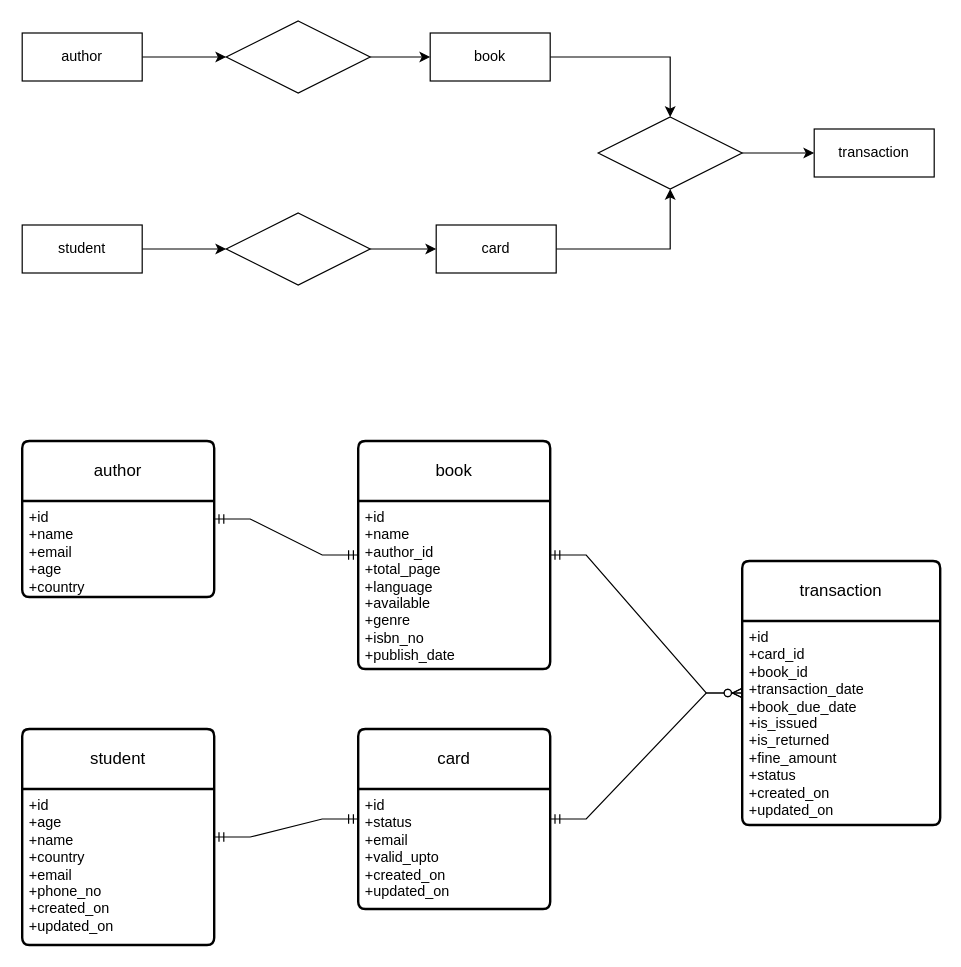
Some shapes in this 961 by 967 pixel diagram are drawn without their labels. The shapes that lost their labels are listed below. From the top down, each one's centre as x and y in pixels, then its label:
At point (297, 56): "write".
At point (669, 152): "have".
At point (297, 248): "read".
